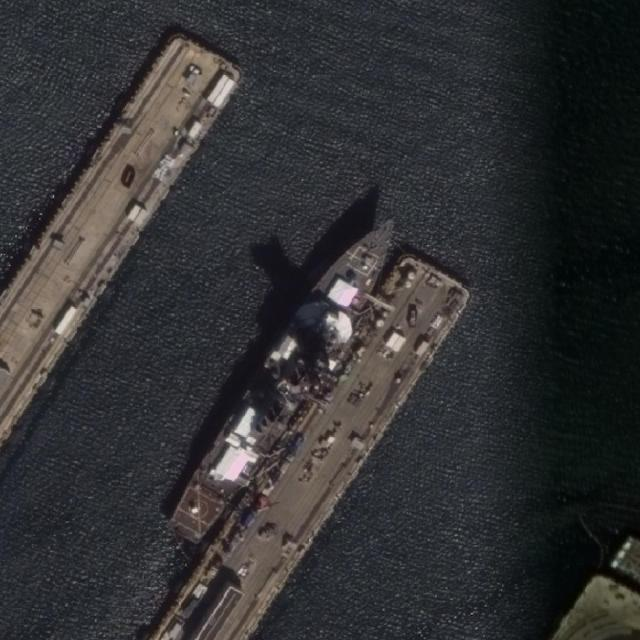Destroyer: (158, 198, 418, 553)
